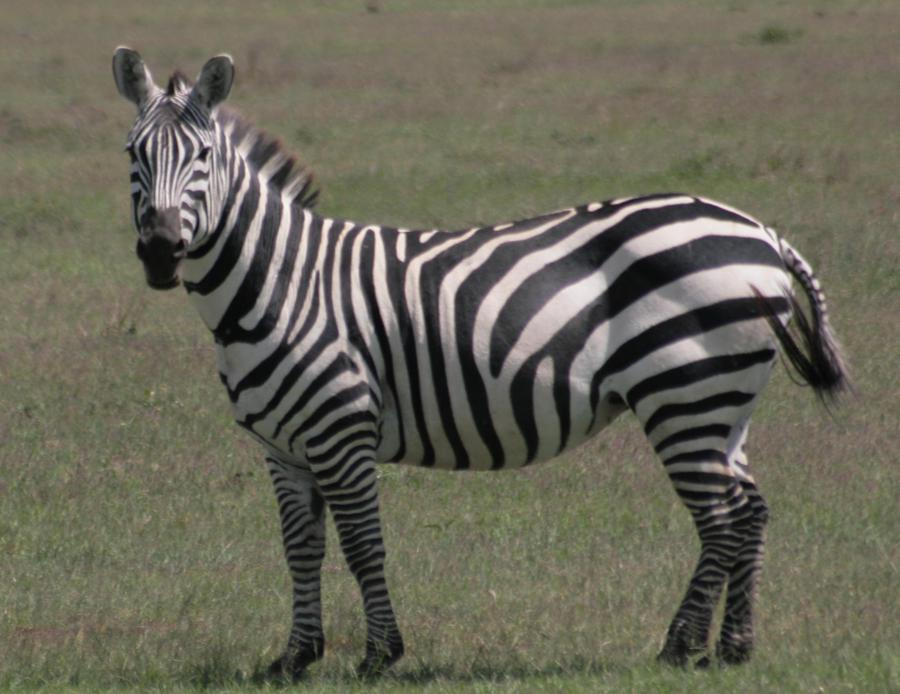zebra_plains: (234, 196, 782, 457)
